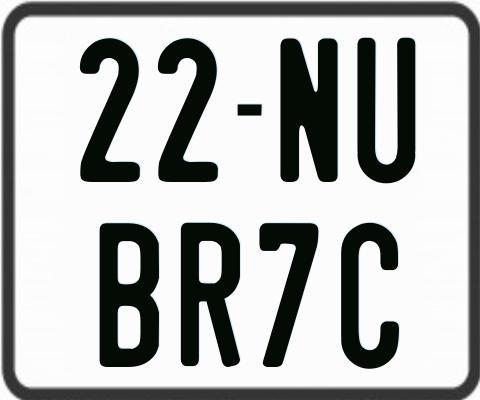2: (80, 36, 145, 186), (156, 38, 218, 182)
7: (259, 220, 321, 365)
B: (98, 223, 160, 368)
C: (341, 221, 403, 369)
N: (277, 38, 338, 187)
R: (179, 221, 242, 371)
U: (355, 36, 413, 185)
